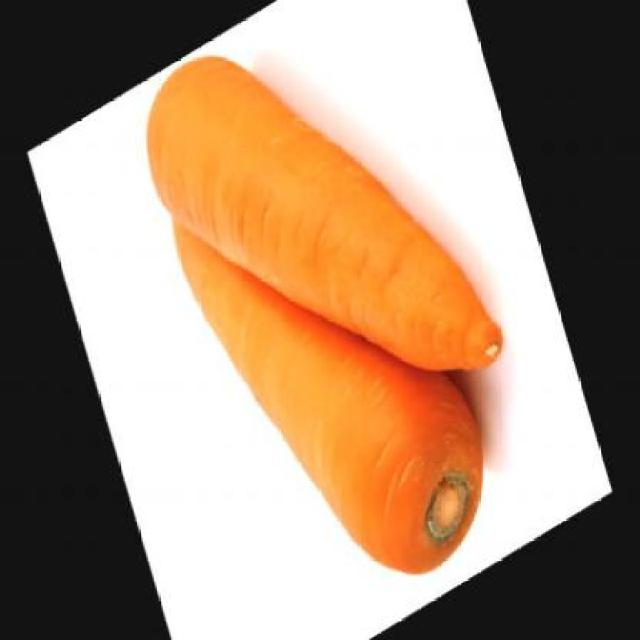carrot: (127, 0, 508, 509), (168, 92, 506, 638)
